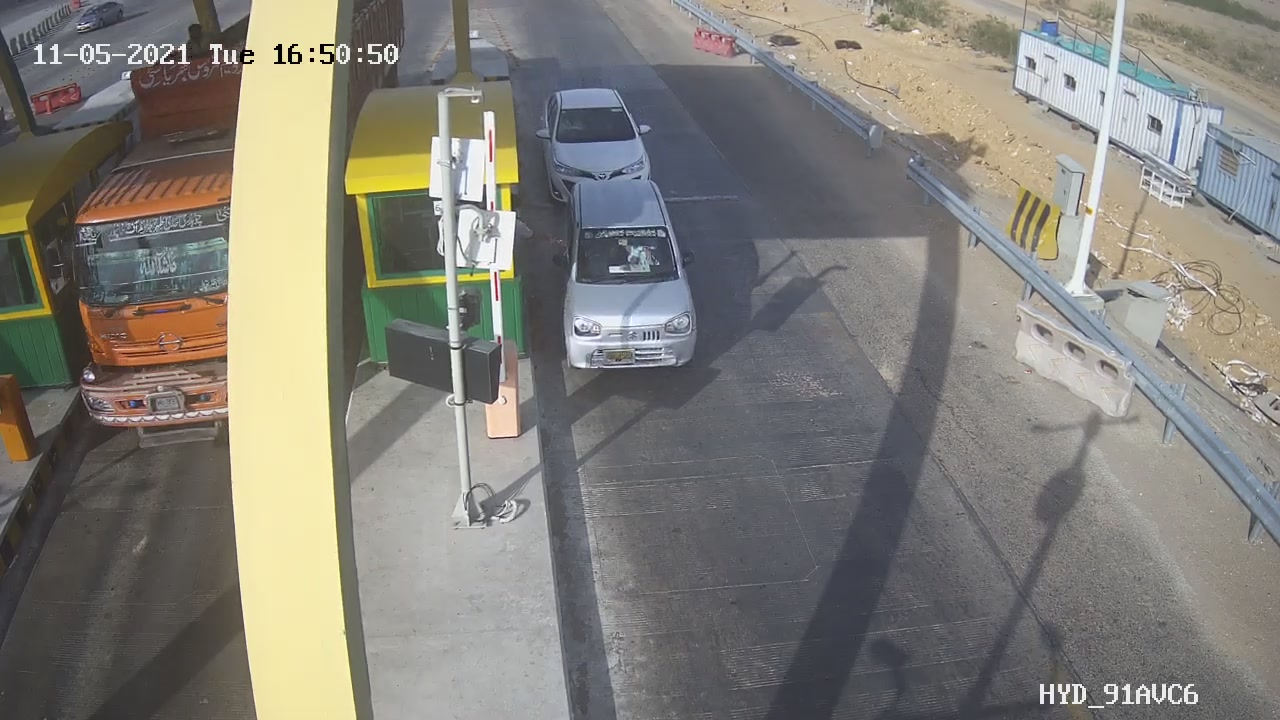F1: (539, 169, 716, 386), (526, 73, 676, 213)
